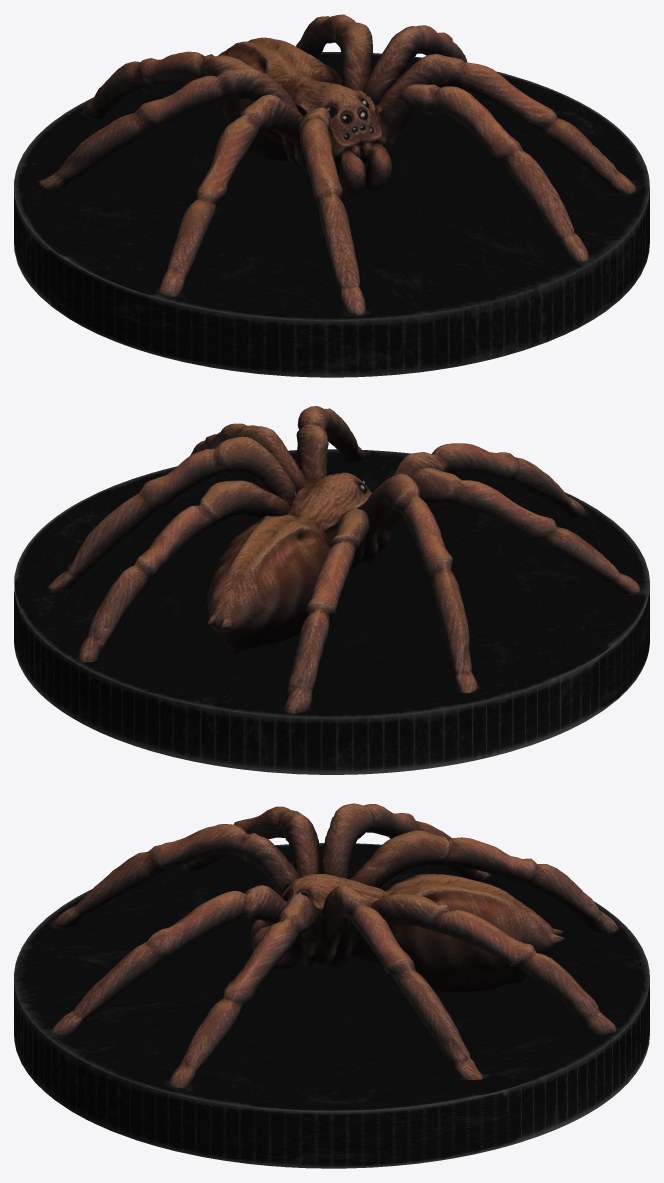
Rendered from MZ4250 - Giant Spider.glb.
3 renders of one model, top to bottom at view 1: azimuth 30°, elevation 25°; view 2: azimuth 150°, elevation 25°; view 3: azimuth 270°, elevation 25°, orthographic.
Visible parts, largest first — view 1: base_low.001, body_low.001; view 2: base_low.001, body_low.001; view 3: base_low.001, body_low.001.
Boxes of the visible parts, x1,y1,x2,y2 form: base_low.001: (14,52,649,377); body_low.001: (39,14,635,315); base_low.001: (14,449,649,774); body_low.001: (48,406,640,713); base_low.001: (14,843,649,1168); body_low.001: (51,803,617,1087).
Bounding box in the file's own units: 1.27 × 0.4143 × 1.27.
Materials: 1 (1 with a texture image).
